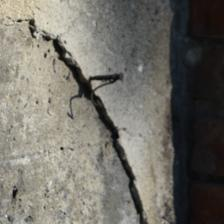Crack: (22, 22, 144, 217)
